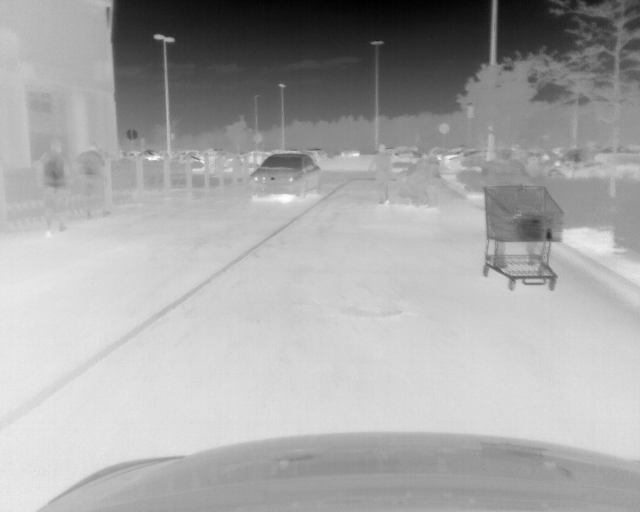car: (250, 151, 323, 202)
people: (483, 149, 515, 269), (523, 141, 552, 265), (37, 139, 66, 237), (76, 143, 109, 219), (369, 145, 393, 203), (420, 148, 439, 210)
